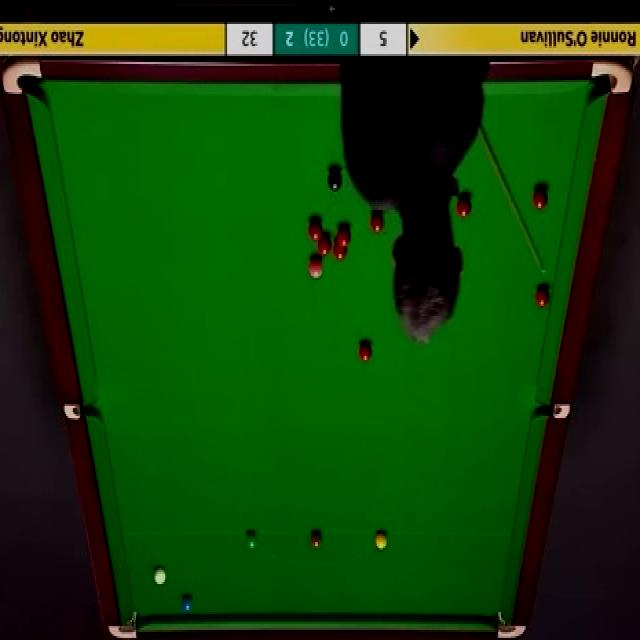black-ball: (328, 168, 342, 190)
blue-ball: (178, 596, 192, 613)
brown-ball: (309, 530, 322, 550)
green-ball: (245, 529, 259, 550)
pink-ball: (308, 256, 324, 281)
red-ball: (369, 208, 385, 235), (456, 194, 472, 220), (534, 286, 550, 310), (532, 190, 549, 211), (314, 238, 330, 260), (308, 220, 323, 243), (358, 340, 373, 362), (333, 239, 347, 262), (337, 226, 351, 247)
white-ball: (153, 566, 166, 585)
yellow-ball: (374, 530, 389, 551)
